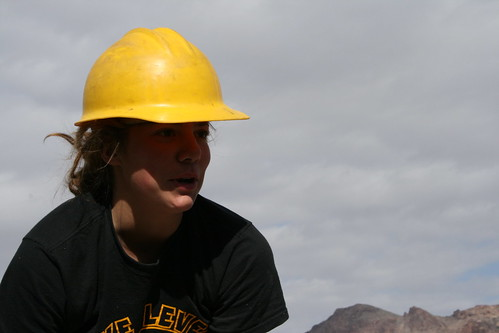person hardhat: (5, 30, 294, 333)
